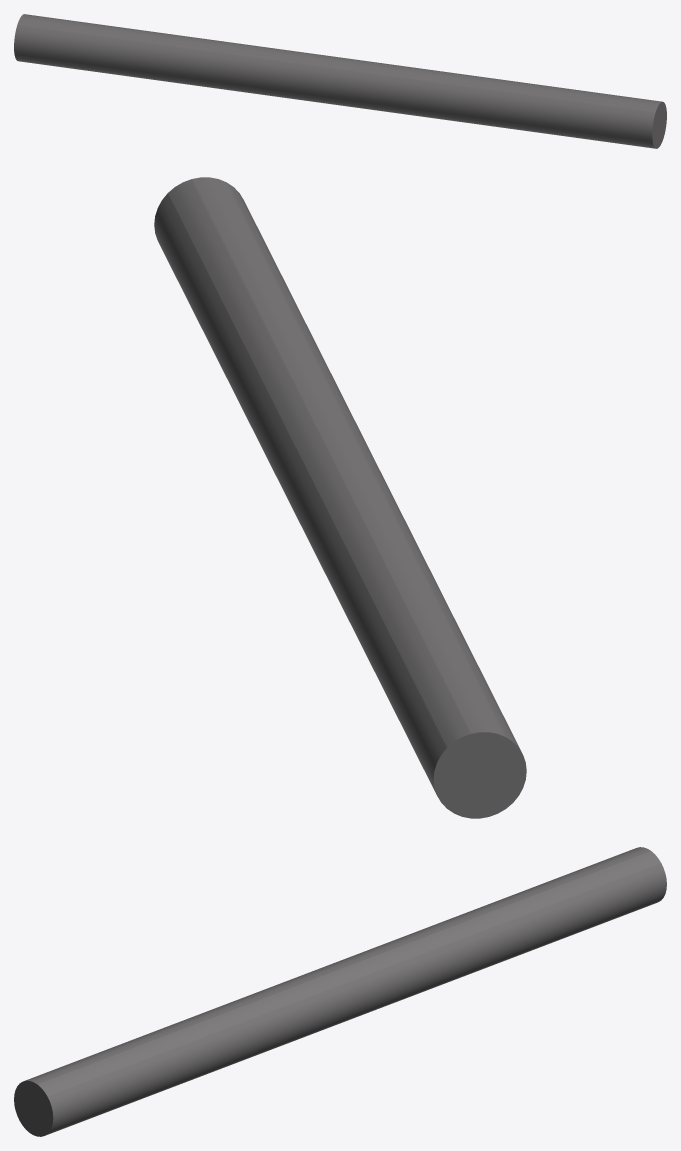
The model's file is frame__right_rear_riser.glb.
3 views of the same model, one above another, from view 1: azimuth 30°, elevation 25°; view 2: azimuth 150°, elevation 25°; view 3: azimuth 270°, elevation 25° (orthographic). The views are drawn at different scales.
Parts seen in each view (by area): view 1: world; view 2: world; view 3: world.
Part boxes in pixels (x1,y1,x2,y2): world: (14, 14, 666, 148); world: (154, 177, 526, 818); world: (14, 847, 666, 1136).
Bounding box in the file's own units: 0.2643 × 0.026 × 0.2894.
Materials: 1 (1 with a texture image).
